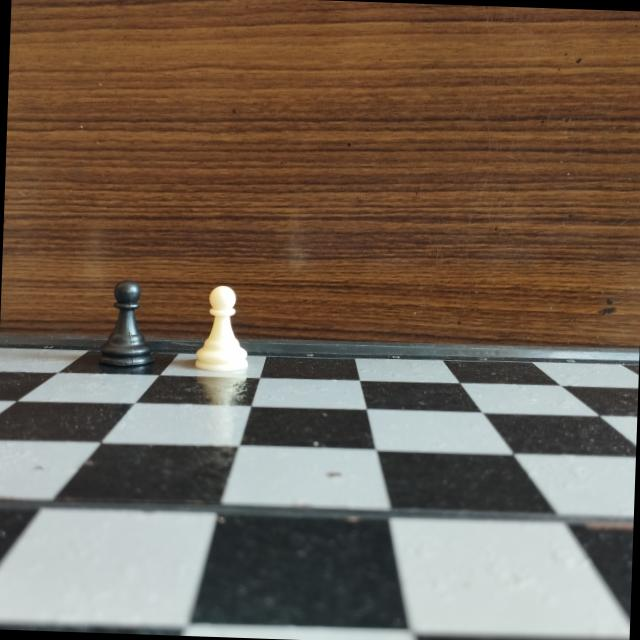Black Pawn: (94, 272, 158, 371)
White Pawn: (192, 279, 254, 378)
